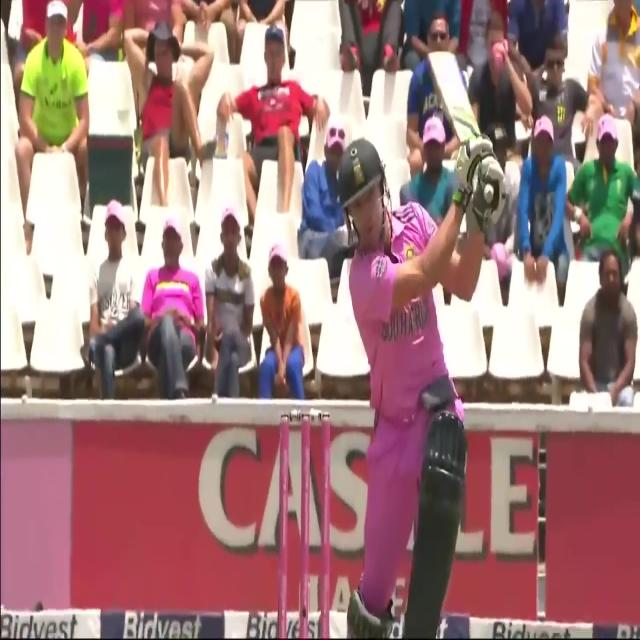Ball: (322, 133, 502, 639)
